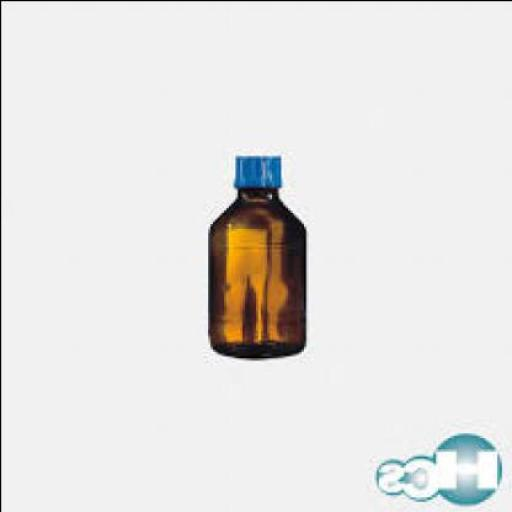glass: (209, 185, 308, 357)
plastic: (236, 152, 284, 186)
